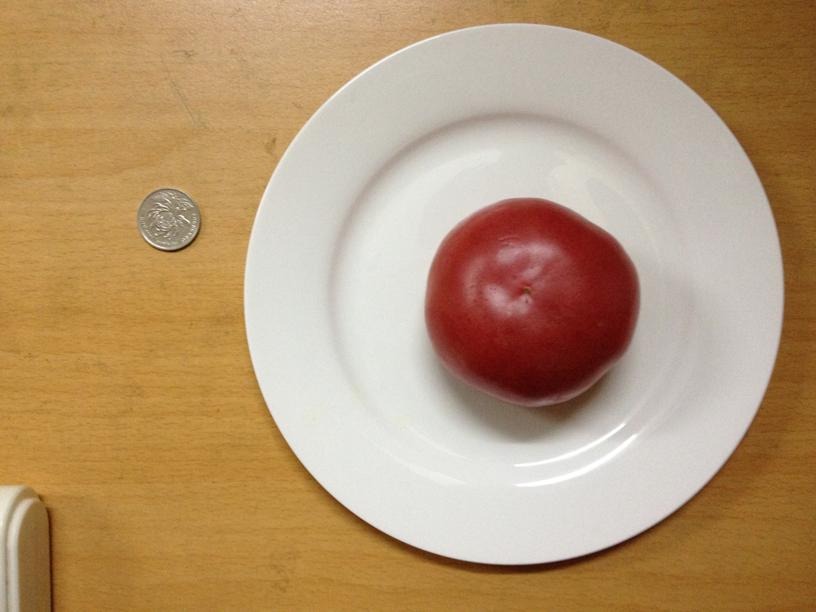coin: (133, 186, 201, 252)
tomato: (423, 196, 643, 408)
